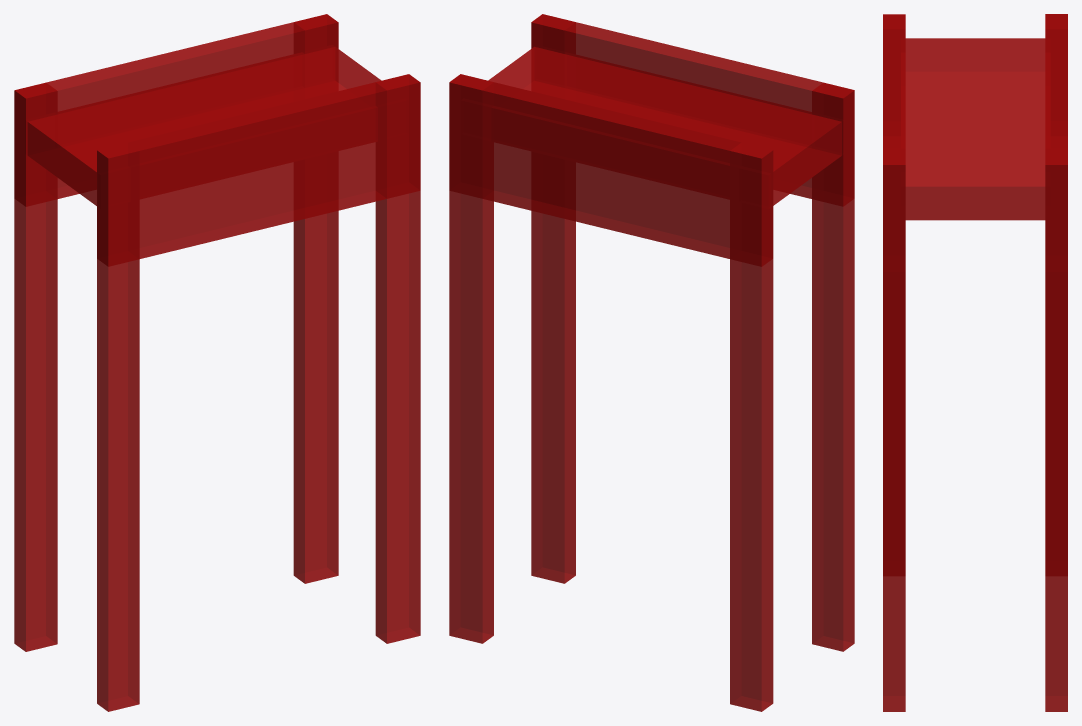
Rendered from SM_Bld_Village_ArchwayBridge_01_Collision.fbx.
The picture shows the model from 3 angles, left to right: view 1: azimuth 30°, elevation 25°; view 2: azimuth 150°, elevation 25°; view 3: azimuth 270°, elevation 25°; orthographic projection.
Parts seen in each view (by area): view 1: SM_Bld_Village_ArchwayBridge_01_Collision; view 2: SM_Bld_Village_ArchwayBridge_01_Collision; view 3: SM_Bld_Village_ArchwayBridge_01_Collision.
Boxes of the visible parts, bbox=[...] form: SM_Bld_Village_ArchwayBridge_01_Collision: bbox=[14, 14, 420, 711]; SM_Bld_Village_ArchwayBridge_01_Collision: bbox=[449, 14, 854, 711]; SM_Bld_Village_ArchwayBridge_01_Collision: bbox=[883, 14, 1067, 711].
Size of the model in its own units: 395 by 667 by 204.
